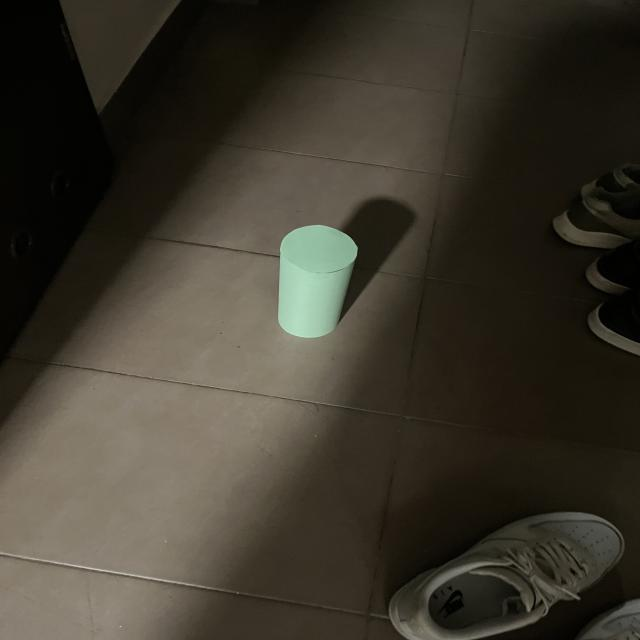meta: (278, 225, 357, 338)
